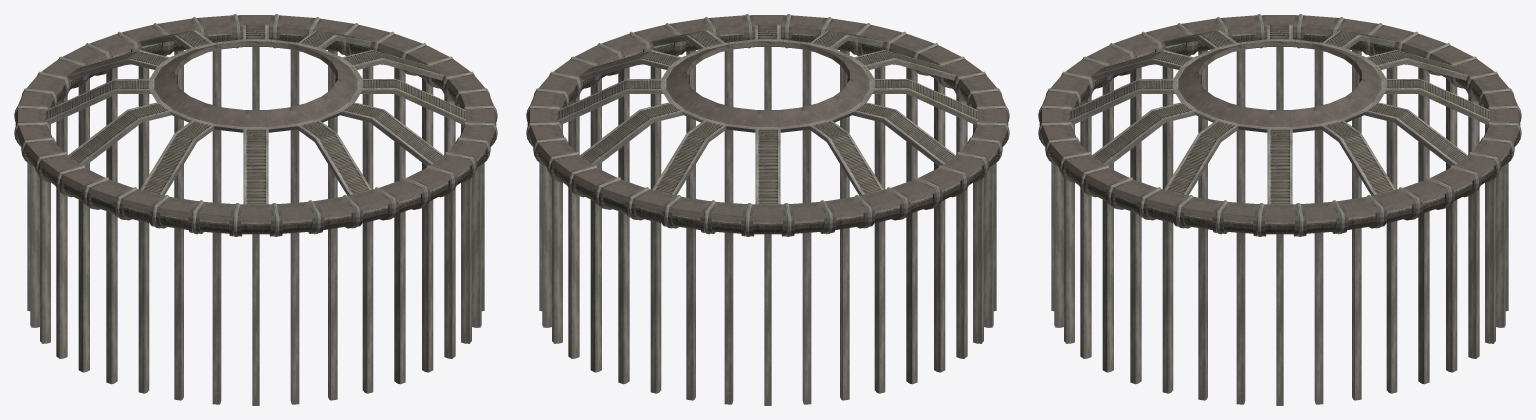
The model's file is Dragonfly_Helicopter.fbx.
The picture shows the model from 3 angles, left to right: view 1: azimuth 30°, elevation 25°; view 2: azimuth 150°, elevation 25°; view 3: azimuth 270°, elevation 25°; orthographic projection.
Parts seen in each view (by area): view 1: Arena; view 2: Arena; view 3: Arena.
Boxes of the visible parts, x1,y1,x2,y2 form: Arena: (14,14,497,405); Arena: (526,14,1009,405); Arena: (1038,14,1521,405).
Bounding box in the file's own units: 84.25 × 45.07 × 84.25.
